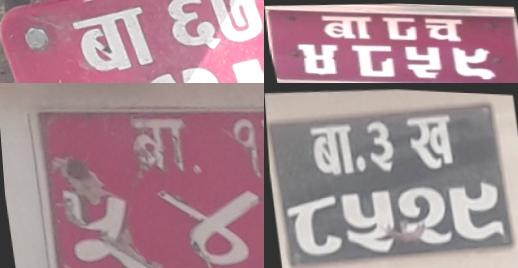0: (69, 2, 153, 75)
1: (220, 109, 264, 181)
2: (392, 176, 454, 254)
3: (360, 113, 400, 176)
4: (151, 176, 264, 268), (161, 0, 220, 48), (293, 40, 345, 78)
5: (52, 180, 160, 268), (336, 184, 398, 255), (134, 60, 243, 83), (399, 42, 447, 79)
7: (203, 0, 264, 42)
8: (279, 186, 344, 261), (345, 42, 400, 79), (378, 14, 424, 42)
9: (443, 174, 510, 247), (446, 43, 499, 80)
ba: (123, 107, 195, 182), (302, 116, 358, 181), (317, 12, 376, 41)
cha: (422, 14, 467, 42)
kha: (401, 107, 459, 174)
